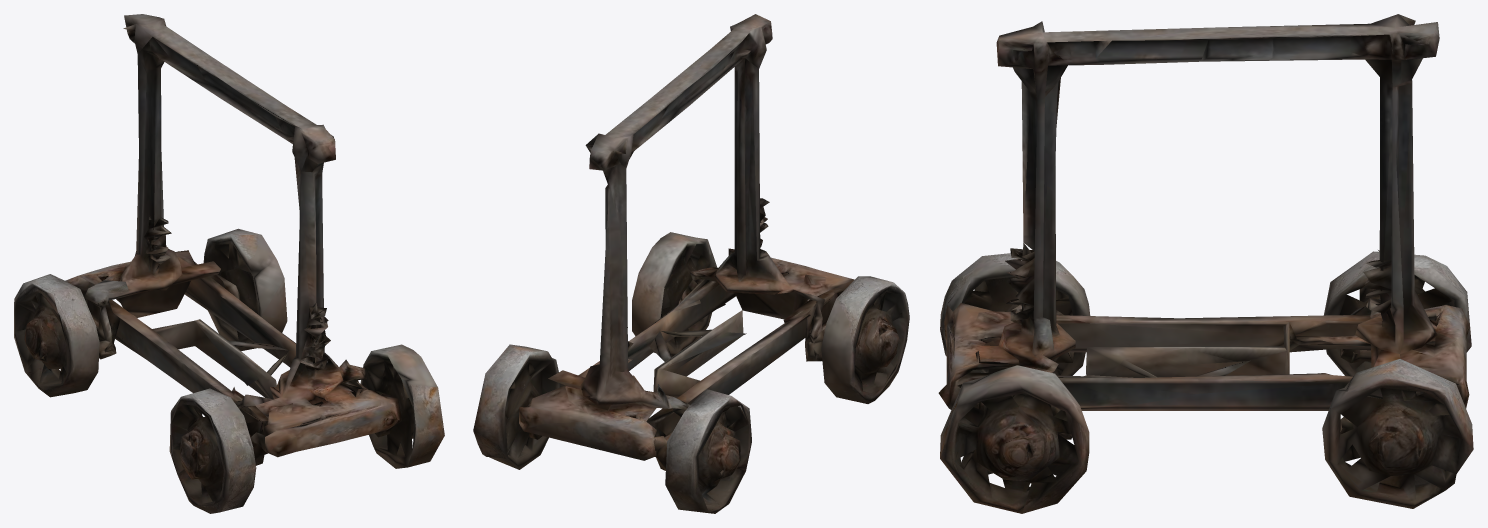
File: rd_bogie.glb
3 renders of one model, left to right at view 1: azimuth 30°, elevation 25°; view 2: azimuth 150°, elevation 25°; view 3: azimuth 270°, elevation 25°, orthographic. The views are drawn at different scales.
Visible parts, largest first — view 1: tripo_node_3cfb83ca-7765-4138-8d68-dde22ec28819; view 2: tripo_node_3cfb83ca-7765-4138-8d68-dde22ec28819; view 3: tripo_node_3cfb83ca-7765-4138-8d68-dde22ec28819.
Part boxes in pixels (left/top/right/bottom): tripo_node_3cfb83ca-7765-4138-8d68-dde22ec28819: left=14, top=14, right=444, bottom=513; tripo_node_3cfb83ca-7765-4138-8d68-dde22ec28819: left=473, top=14, right=909, bottom=513; tripo_node_3cfb83ca-7765-4138-8d68-dde22ec28819: left=938, top=14, right=1473, bottom=513.
Bounding box in the file's own units: 0.6574 × 0.8839 × 1.
Materials: 1 (1 with a texture image).
